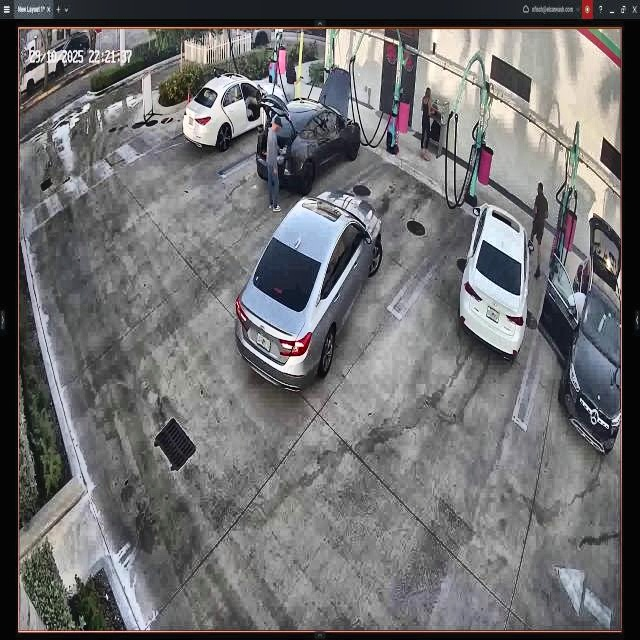Car: (237, 188, 384, 388), (256, 69, 361, 192), (454, 193, 527, 357), (181, 74, 285, 159)
